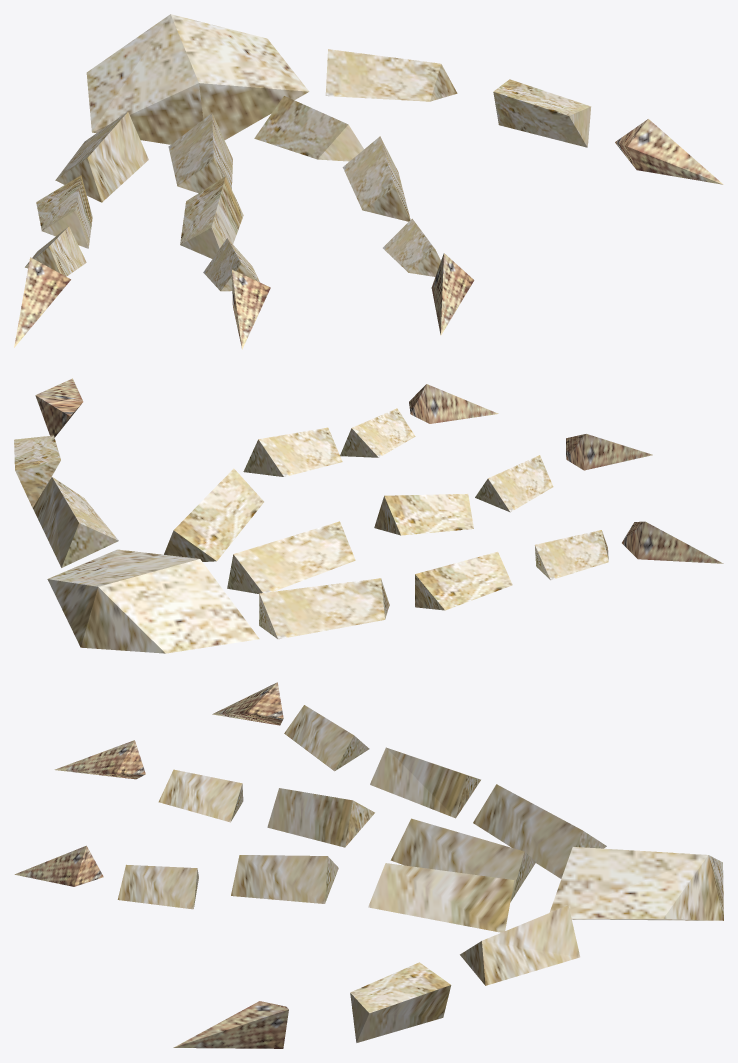
File: poi_tato_skel_krayt_foot_l2.fbx
The picture shows the model from 3 angles, top to bottom: view 1: azimuth 30°, elevation 25°; view 2: azimuth 150°, elevation 25°; view 3: azimuth 270°, elevation 25°; orthographic projection. The views are drawn at different scales.
Parts seen in each view (by area): view 1: mesh_node; view 2: mesh_node; view 3: mesh_node.
Boxes of the visible parts, x1,y1,x2,y2 form: mesh_node: (14,14,723,349); mesh_node: (14,378,723,653); mesh_node: (14,682,723,1048).
Size of the model in its own units: 2.96 by 0.3635 by 2.6.
Materials: 2 (2 with a texture image).
